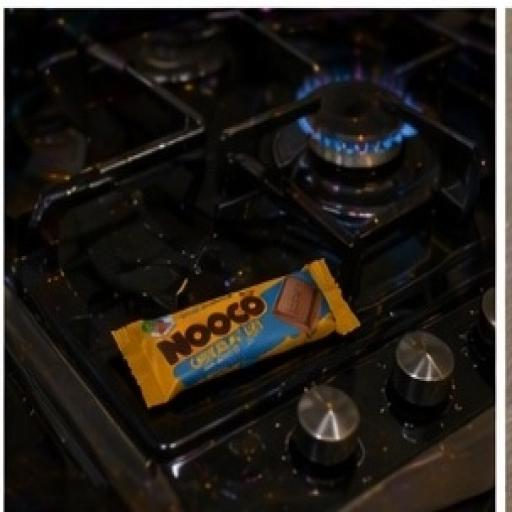nooco: (113, 262, 372, 411)
